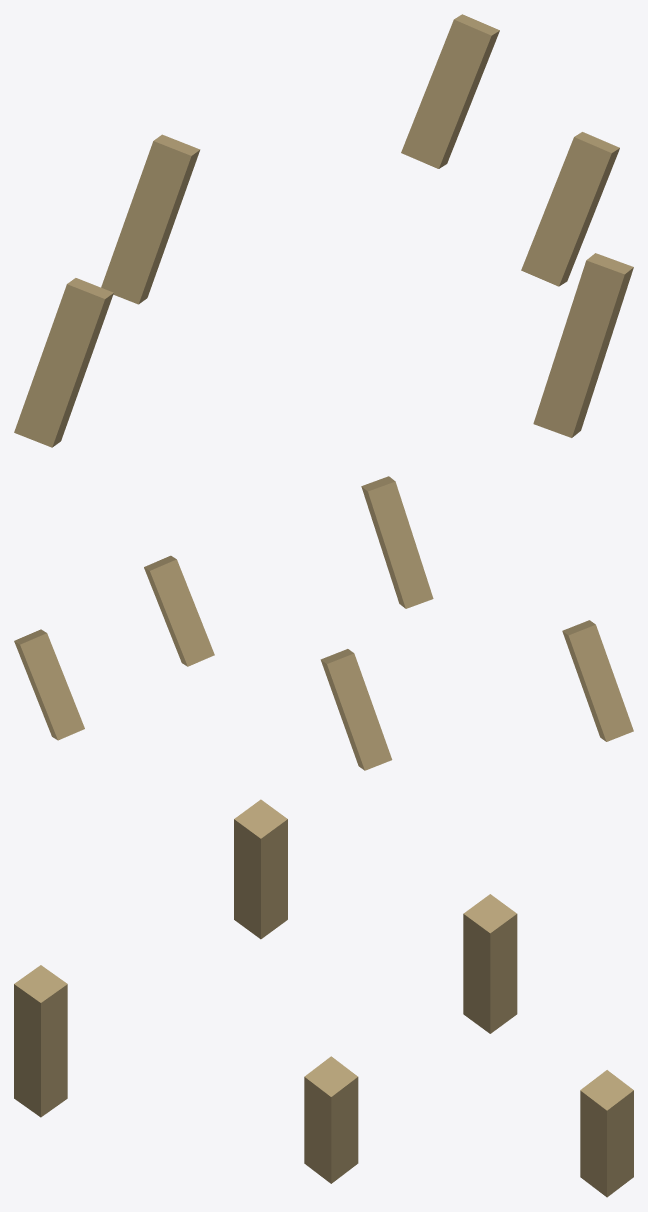
File: plant_wild_lentil_spent.glb
3 views of the same model, one above another, from view 1: azimuth 30°, elevation 25°; view 2: azimuth 150°, elevation 25°; view 3: azimuth 270°, elevation 25° (orthographic). The views are drawn at different scales.
Visible parts, largest first — view 1: plant_wild_lentil_spent; view 2: plant_wild_lentil_spent; view 3: plant_wild_lentil_spent.
Part boxes in pixels (left/top/right/bottom): plant_wild_lentil_spent: left=14, top=14, right=633, bottom=447; plant_wild_lentil_spent: left=14, top=476, right=633, bottom=770; plant_wild_lentil_spent: left=14, top=799, right=633, bottom=1197.
Size of the model in its own units: 0.3186 by 0.0772 by 0.2765.
